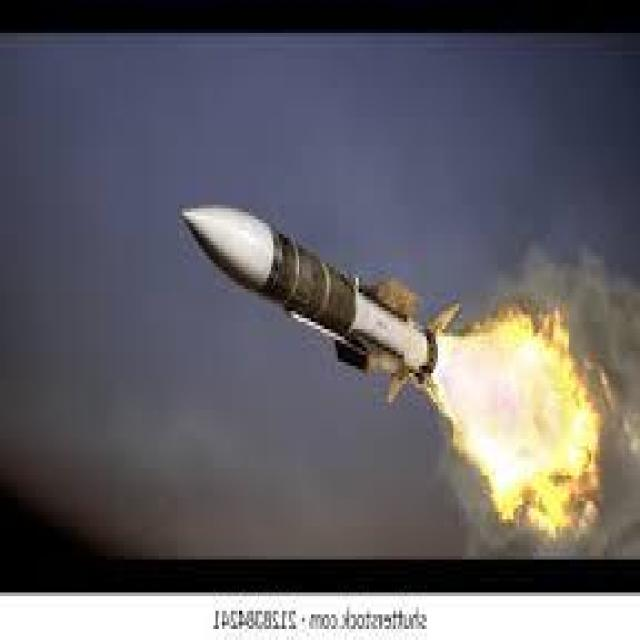rocket: (178, 200, 540, 456)
